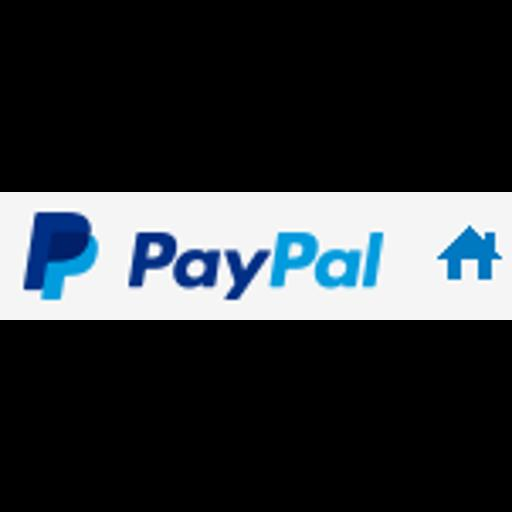PayPal: (0, 192, 512, 320)
